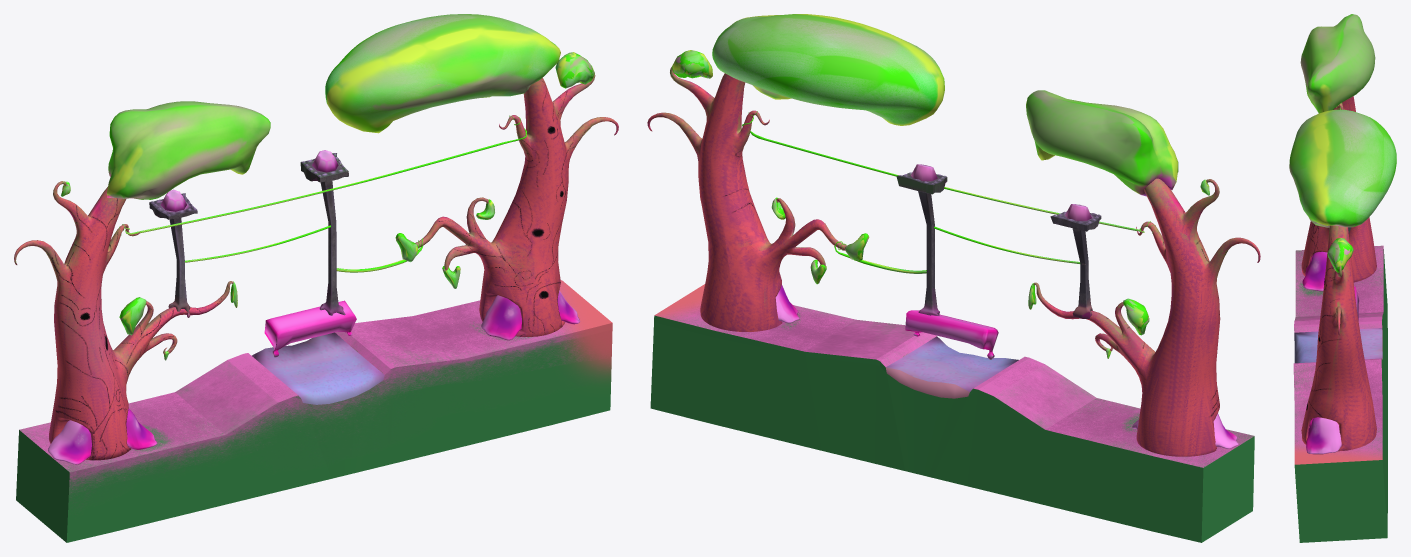
Rendered from Arena3.fbx.
3 views of the same model, side by side, from view 1: azimuth 30°, elevation 25°; view 2: azimuth 150°, elevation 25°; view 3: azimuth 270°, elevation 25° (orthographic). The views are drawn at different scales.
Visible parts, largest first — view 1: Cube.003, Icosphere.007, Cylinder, Cylinder.001, Sphere.004, Cube.002, Cube.001, Cube.004, Sphere.002, Sphere, Cylinder.009, Icosphere.008 (+1 smaller); view 2: Cube.003, Cylinder, Icosphere.007, Cylinder.001, Sphere.004, Cube.002, Cube.001, Cube.004, Cylinder.009, Icosphere.008; view 3: Cube.003, Icosphere.007, Cylinder.001, Sphere.004, Cylinder, Sphere.001, Sphere.003, Icosphere.008.
Part boxes in pixels (x1,y1,x2,y2): Cube.003: (16,280,612,542); Icosphere.007: (325,14,560,133); Cylinder: (14,181,233,460); Cylinder.001: (415,73,618,336); Sphere.004: (106,101,270,199); Cube.002: (264,300,356,357); Cube.001: (300,153,348,315); Cube.004: (149,193,197,317); Sphere.002: (48,420,91,464); Sphere: (481,295,521,340); Cylinder.009: (119,115,526,235); Icosphere.008: (555,52,594,88); Cube.003: (650,284,1254,542); Cylinder: (1033,178,1260,456); Icosphere.007: (712,14,944,125); Cylinder.001: (647,67,846,331); Sphere.004: (1026,90,1178,196); Cube.002: (905,310,998,359); Cube.001: (896,172,947,315); Cube.004: (1050,211,1101,318); Cylinder.009: (742,111,1155,233); Icosphere.008: (672,50,712,78); Cube.003: (1293,245,1387,542); Icosphere.007: (1289,109,1396,227); Cylinder.001: (1301,225,1376,451); Sphere.004: (1300,14,1375,113); Cylinder: (1301,96,1376,282); Sphere.001: (1306,417,1341,454); Sphere.003: (1302,251,1327,291); Icosphere.008: (1327,238,1353,272).
Size of the model in its own units: 1565 by 997 by 278.
12 materials, 12 textured.
